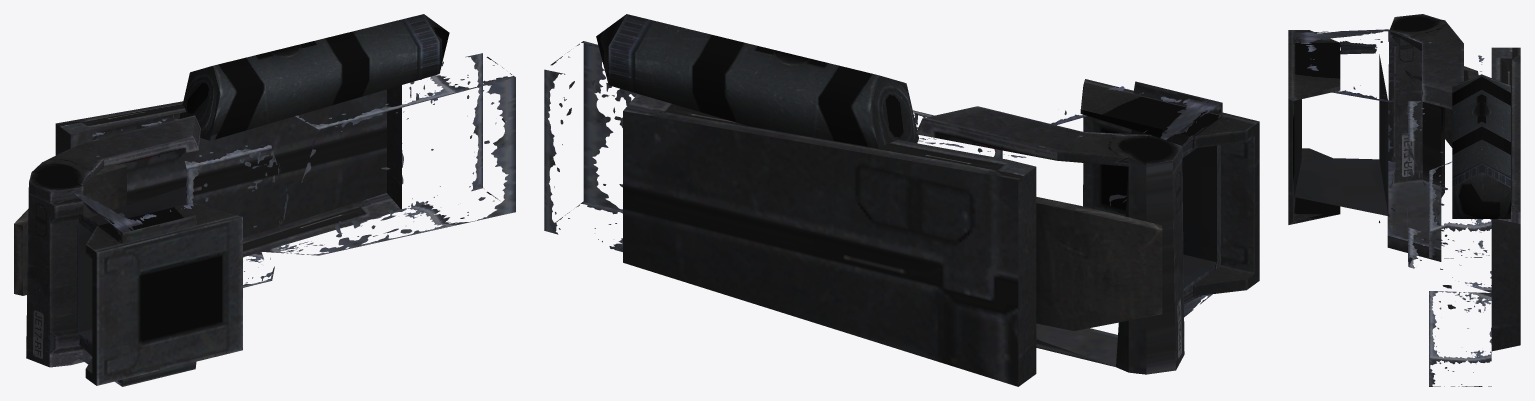
The model's file is t6_attach_optic_rangefinder_world_LOD1.obj.
The picture shows the model from 3 angles, left to right: view 1: azimuth 30°, elevation 25°; view 2: azimuth 150°, elevation 25°; view 3: azimuth 270°, elevation 25°; orthographic projection. The views are drawn at different scales.
Visible parts, largest first — view 1: mtl_t6_attach_optic_rangefinder_camo1, mtl_t6_attach_optic_rangefinder_camo2, mtl_t6_attach_optic_rangefinder; view 2: mtl_t6_attach_optic_rangefinder_camo1, mtl_t6_attach_optic_rangefinder_camo2, mtl_t6_attach_optic_rangefinder; view 3: mtl_t6_attach_optic_rangefinder_camo1, mtl_t6_attach_optic_rangefinder_camo2, mtl_t6_attach_optic_rangefinder.
Boxes of the visible parts, x1,y1,x2,y2 form: mtl_t6_attach_optic_rangefinder_camo1: [55, 14, 515, 386]; mtl_t6_attach_optic_rangefinder_camo2: [14, 14, 449, 385]; mtl_t6_attach_optic_rangefinder: [77, 186, 186, 342]; mtl_t6_attach_optic_rangefinder_camo1: [544, 14, 1259, 386]; mtl_t6_attach_optic_rangefinder_camo2: [596, 14, 1184, 374]; mtl_t6_attach_optic_rangefinder: [1131, 129, 1216, 288]; mtl_t6_attach_optic_rangefinder_camo1: [1288, 29, 1520, 386]; mtl_t6_attach_optic_rangefinder_camo2: [1387, 14, 1510, 261]; mtl_t6_attach_optic_rangefinder: [1294, 54, 1388, 215].
Bounding box in the file's own units: 15.05 × 6.32 × 6.42.
